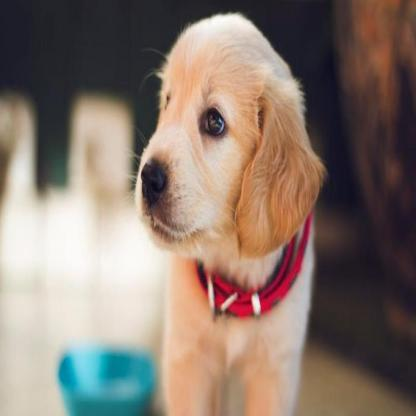cachorro: (110, 4, 334, 350)
